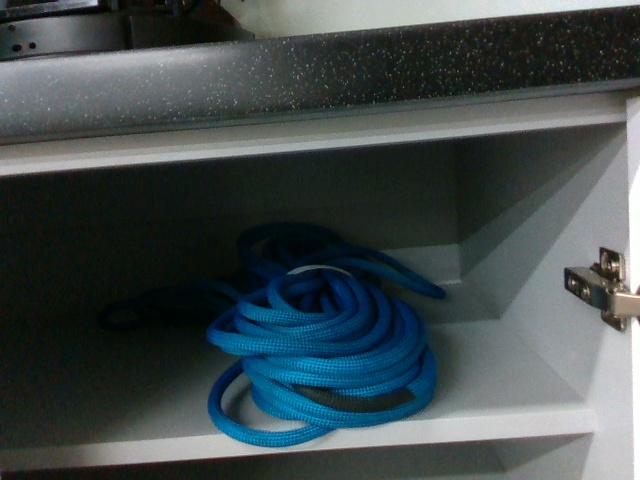rope: (220, 272, 428, 432)
